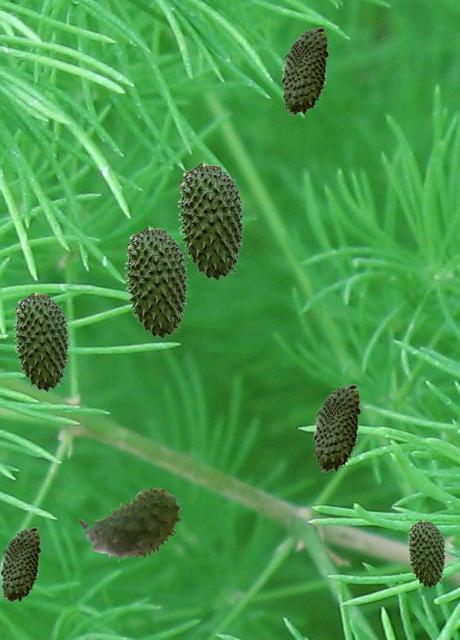guyabano: (177, 161, 244, 280), (78, 487, 181, 561), (124, 225, 188, 338), (13, 291, 69, 391), (313, 384, 360, 471), (281, 27, 328, 114), (0, 527, 40, 601), (407, 519, 445, 587)
